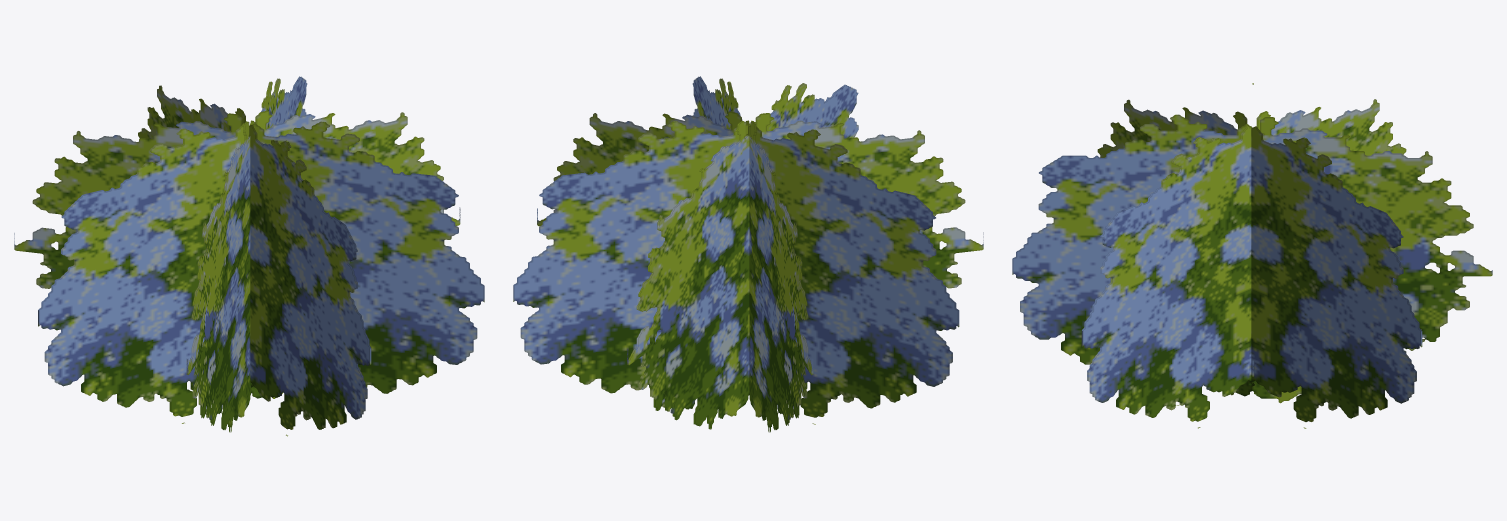
File: Flowers.fbx
The picture shows the model from 3 angles, left to right: view 1: azimuth 30°, elevation 25°; view 2: azimuth 150°, elevation 25°; view 3: azimuth 270°, elevation 25°; orthographic projection.
Visible parts, largest first — view 1: Bush; view 2: Bush; view 3: Bush.
Boxes of the visible parts, box(x1,y1,x2,y2) form: Bush: box(14, 76, 484, 436); Bush: box(513, 76, 983, 432); Bush: box(1012, 83, 1492, 428).
Size of the model in its own units: 300 by 200 by 300.
